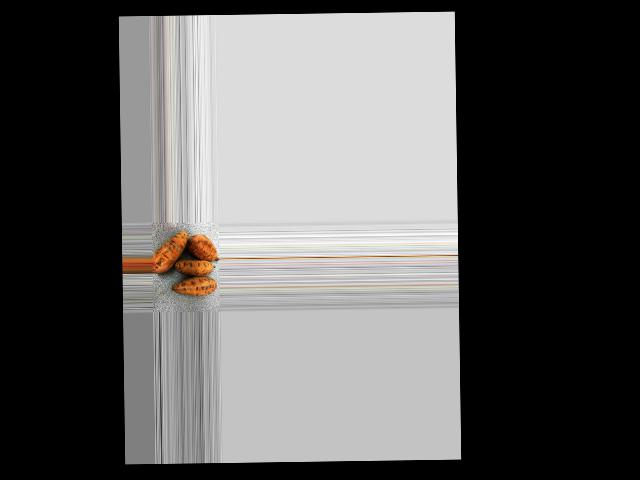sweet_potato: (151, 227, 188, 278)
